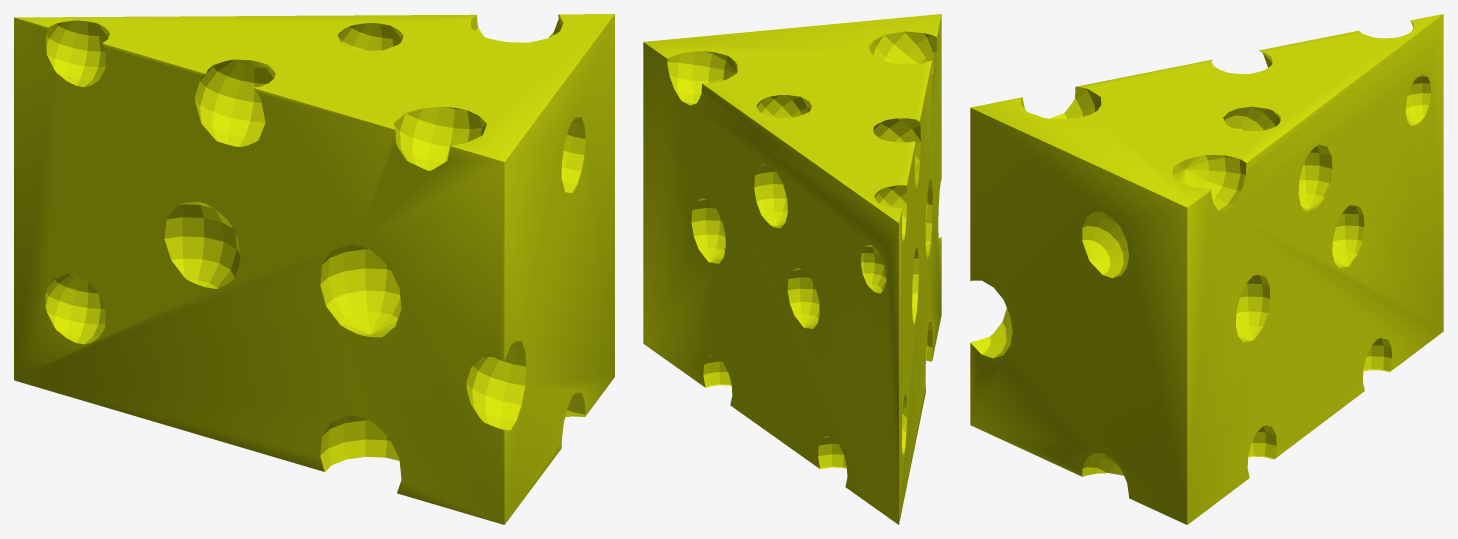
File: Cheese_UV (1).fbx
The picture shows the model from 3 angles, left to right: view 1: azimuth 30°, elevation 25°; view 2: azimuth 150°, elevation 25°; view 3: azimuth 270°, elevation 25°; orthographic projection. The views are drawn at different scales.
Parts seen in each view (by area): view 1: Box20179; view 2: Box20179; view 3: Box20179.
Part boxes in pixels (x1,y1,x2,y2): Box20179: [14, 14, 614, 524]; Box20179: [643, 14, 941, 524]; Box20179: [970, 14, 1443, 524].
Size of the model in its own units: 647 by 495 by 668.
